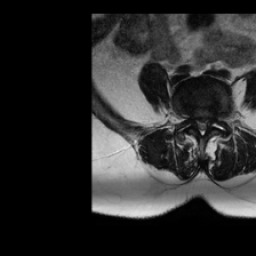CCS_stenosis: (198, 113, 205, 140)
LFS_severe_stenosis: (211, 112, 216, 125)
LLS_severe_stenosis: (205, 114, 211, 128)
RFS_severe_stenosis: (186, 111, 194, 127)
RLS_severe_stenosis: (193, 112, 199, 130)
